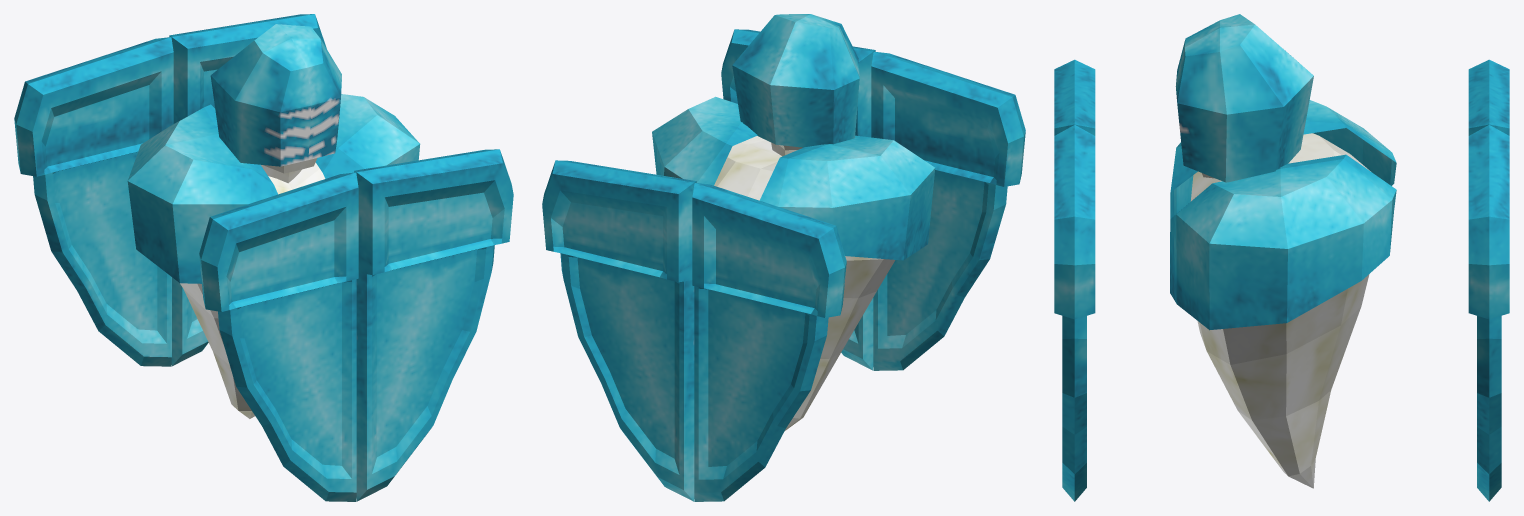
The model's file is aegis.obj.
3 views of the same model, side by side, from view 1: azimuth 30°, elevation 25°; view 2: azimuth 150°, elevation 25°; view 3: azimuth 270°, elevation 25° (orthographic). The views are drawn at different scales.
Visible parts, largest first — view 1: ShieldLowerLeft01, ShieldLowerRight01, Shoulders, ShieldLowerLeft02, ShieldUpperRight01, ShieldUpperLeft02, ShieldUpperLeft01, Helm, ShieldUpperRight02, Body, ShieldLowerRight02, Head; view 2: Shoulders, ShieldLowerRight02, ShieldLowerLeft02, ShieldUpperLeft02, ShieldUpperRight02, ShieldLowerRight01, ShieldUpperRight01, Helm, Body, ShieldUpperLeft01, ShieldLowerLeft01; view 3: Shoulders, Helm, Body, ShieldUpperRight02, ShieldUpperLeft01, ShieldLowerRight02, ShieldLowerLeft01, ShieldUpperRight01, ShieldUpperLeft02.
Part boxes in pixels (left/top/right/bottom): ShieldLowerLeft01: left=356, top=245, right=494, bottom=501; ShieldLowerRight01: left=218, top=279, right=356, bottom=501; Shoulders: left=127, top=94, right=420, bottom=283; ShieldLowerLeft02: left=33, top=151, right=171, bottom=366; ShieldUpperRight01: left=199, top=172, right=358, bottom=311; ShieldUpperLeft02: left=14, top=37, right=173, bottom=176; ShieldUpperLeft01: left=354, top=149, right=513, bottom=275; Helm: left=210, top=24, right=341, bottom=166; ShieldUpperRight02: left=169, top=14, right=326, bottom=123; Body: left=180, top=162, right=325, bottom=418; ShieldLowerRight02: left=171, top=277, right=208, bottom=366; Head: left=261, top=158, right=317, bottom=183; Shoulders: left=652, top=96, right=935, bottom=260; ShieldLowerRight02: left=560, top=253, right=694, bottom=501; ShieldLowerLeft02: left=694, top=286, right=828, bottom=501; ShieldUpperLeft02: left=692, top=182, right=846, bottom=317; ShieldUpperRight02: left=542, top=160, right=696, bottom=282; ShieldLowerRight01: left=873, top=170, right=1007, bottom=370; ShieldUpperRight01: left=871, top=51, right=1025, bottom=186; Helm: left=732, top=14, right=859, bottom=147; Body: left=714, top=136, right=895, bottom=430; ShieldUpperLeft01: left=721, top=29, right=875, bottom=137; ShieldLowerLeft01: left=841, top=298, right=873, bottom=370; Shoulders: left=1170, top=100, right=1396, bottom=330; Helm: left=1175, top=14, right=1313, bottom=182; Body: left=1190, top=133, right=1370, bottom=488; ShieldUpperRight02: left=1468, top=125, right=1509, bottom=319; ShieldUpperLeft01: left=1054, top=125, right=1095, bottom=319; ShieldLowerRight02: left=1477, top=316, right=1501, bottom=501; ShieldLowerLeft01: left=1062, top=316, right=1086, bottom=501; ShieldUpperRight01: left=1054, top=59, right=1095, bottom=135; ShieldUpperLeft02: left=1468, top=59, right=1509, bottom=135.
Size of the model in its own units: 1.34 by 1.73 by 1.52.
